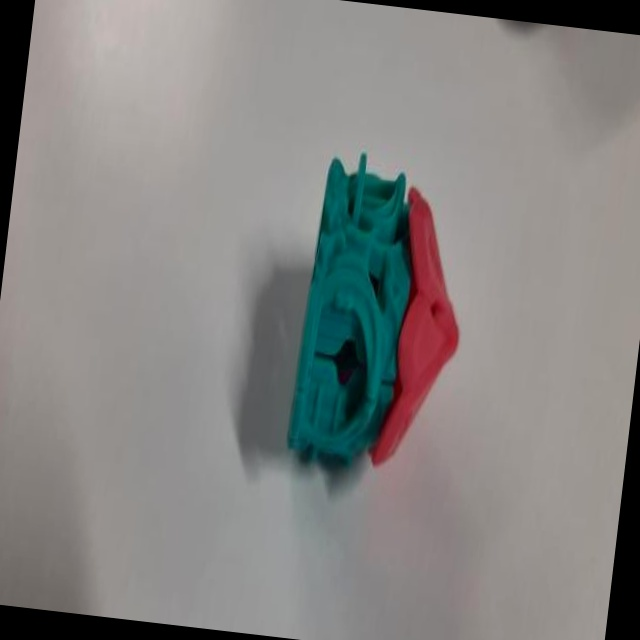House: (272, 131, 488, 499)
